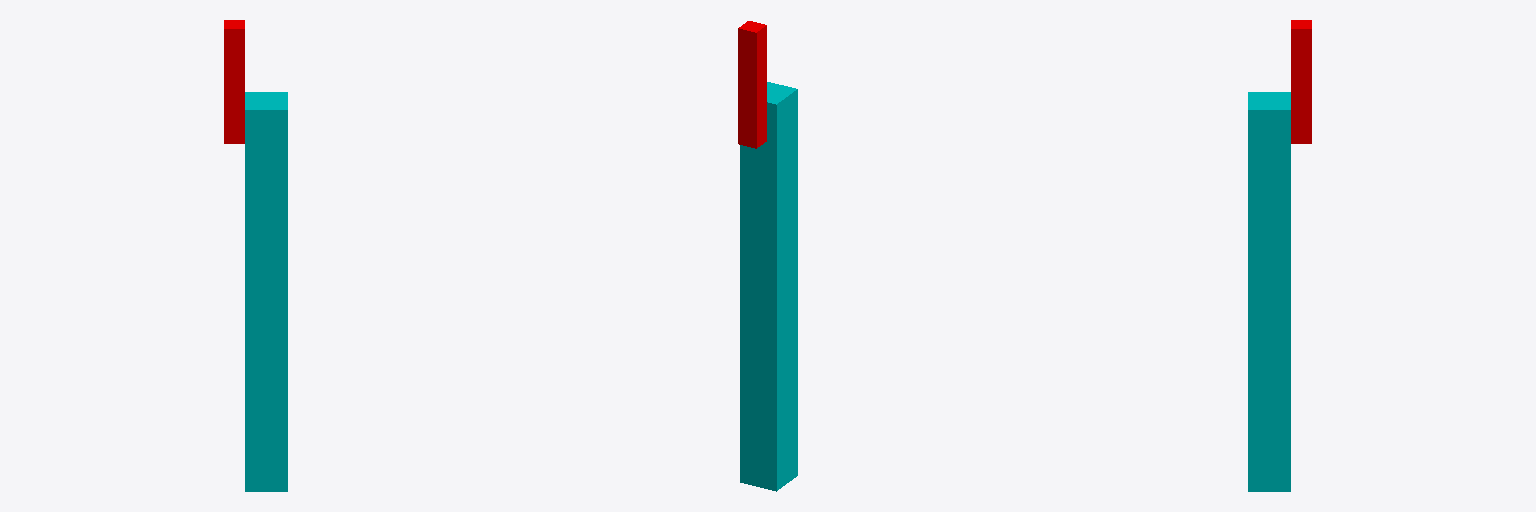
URDF robot description (mill):
<?xml version="1.0" ?>

<robot name="mill">

  <link name="body">
    <visual>
      <geometry>
        <box size="0.1 0.1 1"/>
      </geometry>
      <origin xyz="0 0 0.5"/>
      <material name="green">
        <color rgba="0 0.8 0.8 1"/>
      </material>
    </visual> <!-- Closing visual tag -->

    <collision>
      <geometry>
        <box size="0.1 0.1 1"/> <!-- Match the visual geometry -->
      </geometry>
      <origin xyz="0 0 0.5"/> <!-- Match the visual origin -->
    </collision>

    <inertial>
      <mass value="10"/>
      <inertia ixx="1.0" ixy="0.0" ixz="0.0" iyy="1.0" iyz="0.0" izz="1.0"/>
    </inertial>
  </link> <!-- Closing link tag -->

  <link name="pole">
    <visual>
      <geometry>
        <box size="0.05 0.05 0.3"/>
      </geometry>
      <origin xyz="0 0.025 0.15"/>
      <material name="red">
        <color rgba="1 0 0 1"/>
      </material>
    </visual> <!-- Closing visual tag -->
    <collision>
      <geometry>
        <box size="0.05 0.05 0.3"/> <!-- Match the visual geometry -->
      </geometry>
      <origin xyz="0 0.025 0.15"/> <!-- Match the visual origin -->
    </collision>
    <inertial>
      <mass value="1"/>
      <inertia ixx="1.0" ixy="0.0" ixz="0.0" iyy="1.0" iyz="0.0" izz="1.0"/>
    </inertial>
  </link> <!-- Closing link tag -->

  <joint name="body_to_pole" type="revolute">
    <axis xyz="0 1 0"/>
    <origin rpy="0 0 0" xyz="0 0.05 0.9"/>
    <parent link="body"/>
    <child link="pole"/>
    <limit effort="10" lower="-1.57" upper="1.57" velocity="1"/>
  </joint>


</robot>

--- Render facts (derived) ---
Views: 3 orthographic renders of the robot side by side, from view 1: azimuth 90°, elevation 25°; view 2: azimuth 150°, elevation 25°; view 3: azimuth 270°, elevation 25°.
Model mill with 2 links and 1 joints (1 revolute), rooted at body, posed all joints at 0.
Links seen in each view (by area): view 1: body, pole; view 2: body, pole; view 3: body, pole.
Link boxes in pixels (x1=…): body: x1=245, y1=92, x2=287, y2=491; pole: x1=224, y1=20, x2=244, y2=143; body: x1=740, y1=82, x2=797, y2=491; pole: x1=738, y1=21, x2=766, y2=148; body: x1=1248, y1=92, x2=1290, y2=491; pole: x1=1291, y1=20, x2=1311, y2=143.
Bounding box of the posed robot: 0.1 × 0.15 × 1.2 m (x, y, z).
Geometry: primitives only (box / cylinder / sphere), no mesh files.
